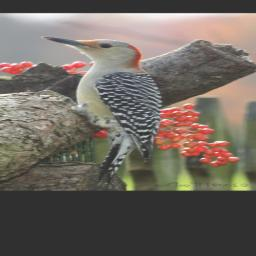Woodpecker: (33, 33, 162, 190)
